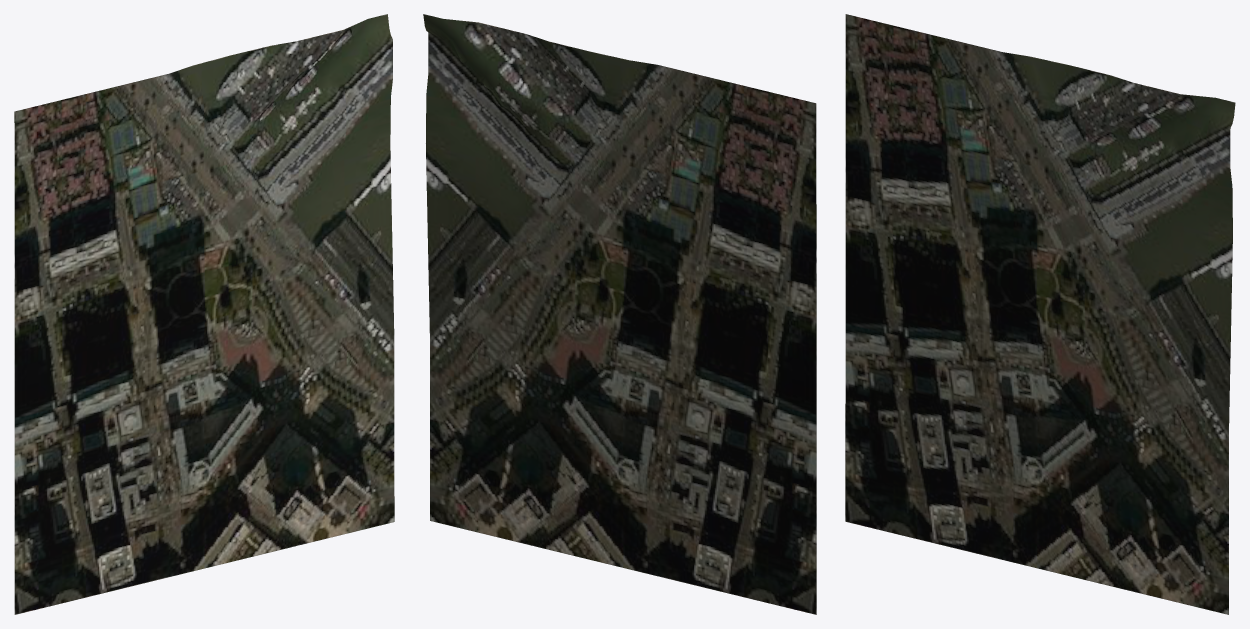
The model's file is example_produced.gltf.
3 renders of one model, left to right at view 1: azimuth 30°, elevation 25°; view 2: azimuth 150°, elevation 25°; view 3: azimuth 330°, elevation 25°, orthographic.
Bounding box in the file's own units: 483 × 611 × 19.71.
Materials: 1 (1 with a texture image).
